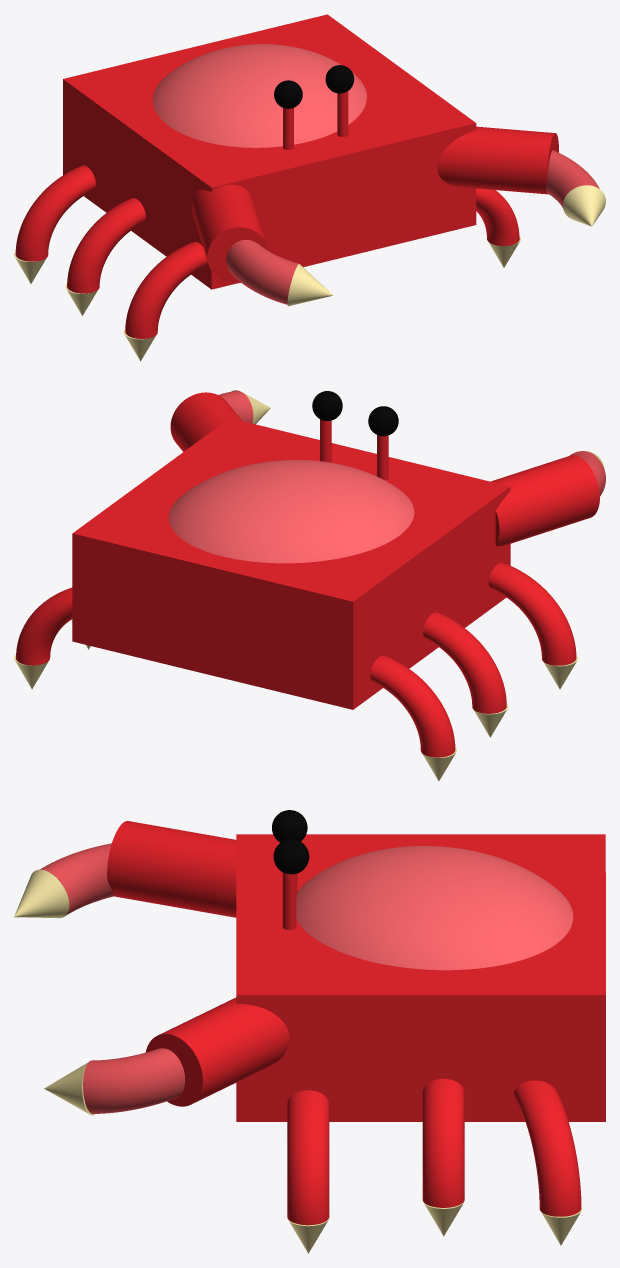
Rendered from Beach_Crab.glb.
3 renders of one model, top to bottom at view 1: azimuth 30°, elevation 25°; view 2: azimuth 150°, elevation 25°; view 3: azimuth 270°, elevation 25°, orthographic. The views are drawn at different scales.
Visible parts, largest first — view 1: mesh_id36.001, mesh_id37, mesh_id30.001, mesh_id49, mesh_id46, mesh_id44.001, mesh_id42.001, mesh_id51.001, mesh_id28, mesh_id32, mesh_id34, mesh_id53 (+3 smaller); view 2: mesh_id36.001, mesh_id37, mesh_id49, mesh_id46, mesh_id44.001, mesh_id42.001, mesh_id55, mesh_id30.001, mesh_id39, mesh_id41, mesh_id32, mesh_id40; view 3: mesh_id36.001, mesh_id37, mesh_id49, mesh_id30.001, mesh_id55, mesh_id28, mesh_id26, mesh_id32, mesh_id51.001, mesh_id53, mesh_id39, mesh_id34 (+3 smaller).
Part boxes in pixels (box(x1,y1,x2,y2)): mesh_id36.001: box(63, 14, 476, 289); mesh_id37: box(152, 44, 366, 147); mesh_id30.001: box(437, 126, 558, 194); mesh_id49: box(191, 184, 268, 283); mesh_id46: box(125, 241, 207, 338); mesh_id44.001: box(15, 165, 95, 261); mesh_id42.001: box(67, 198, 145, 293); mesh_id51.001: box(226, 240, 299, 304); mesh_id28: box(476, 188, 519, 245); mesh_id32: box(546, 150, 599, 208); mesh_id34: box(563, 185, 605, 226); mesh_id53: box(287, 264, 333, 306); mesh_id36.001: box(72, 418, 510, 709); mesh_id37: box(168, 460, 414, 563); mesh_id49: box(491, 455, 599, 545); mesh_id46: box(488, 562, 576, 665); mesh_id44.001: box(370, 655, 455, 757); mesh_id42.001: box(423, 612, 506, 713); mesh_id55: box(16, 587, 72, 665); mesh_id30.001: box(170, 392, 241, 451); mesh_id39: box(312, 391, 342, 420); mesh_id41: box(368, 406, 398, 436); mesh_id32: box(218, 390, 253, 423); mesh_id40: box(377, 435, 388, 480); mesh_id36.001: box(236, 834, 605, 1121); mesh_id37: box(296, 846, 573, 970); mesh_id49: box(107, 821, 236, 917); mesh_id30.001: box(145, 997, 289, 1106); mesh_id55: box(514, 1080, 581, 1216); mesh_id28: box(287, 1090, 329, 1225); mesh_id26: box(422, 1078, 464, 1207); mesh_id32: box(83, 1048, 185, 1113); mesh_id51.001: box(40, 843, 114, 915); mesh_id53: box(14, 869, 69, 918); mesh_id39: box(273, 839, 309, 874); mesh_id34: box(44, 1062, 94, 1115).
Bounding box in the file's own units: 0.587 × 0.3403 × 0.5902.
21 materials, 21 textured.
